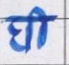i_matra: (32, 7, 47, 48)
